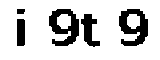9: (114, 2, 151, 50), (43, 4, 80, 50)
i: (8, 4, 35, 52)
t: (80, 11, 101, 51)
